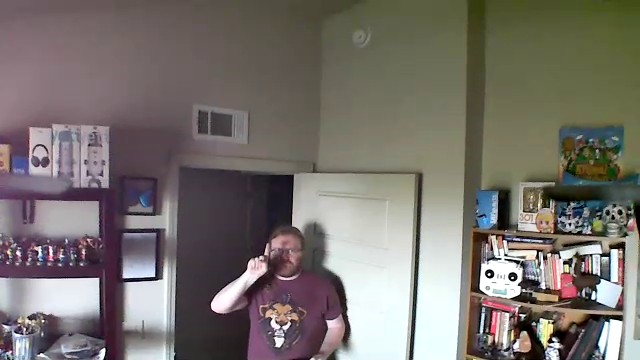up: (243, 239, 277, 280)
